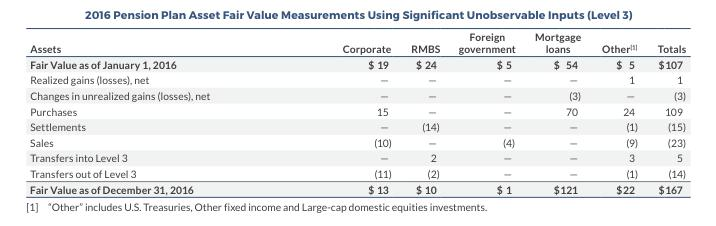table: (29, 29, 685, 194)
table column: (29, 29, 275, 194), (275, 29, 400, 194), (448, 29, 524, 194), (524, 29, 590, 194), (590, 29, 647, 194), (400, 29, 448, 194), (647, 29, 685, 194)
table column header: (29, 29, 685, 55)
table row: (29, 29, 685, 55), (29, 55, 685, 71), (29, 71, 685, 87), (29, 102, 685, 118), (29, 133, 685, 149), (29, 149, 685, 165), (29, 87, 685, 102), (29, 118, 685, 133), (29, 165, 685, 180), (29, 180, 685, 194)
